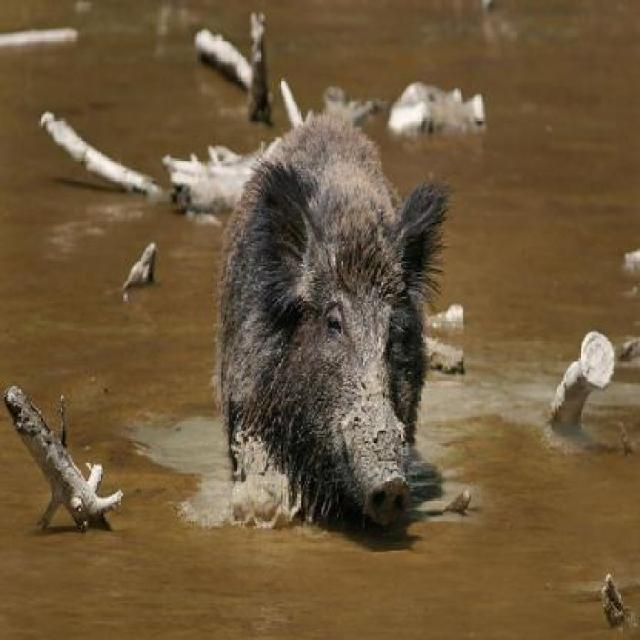wildboar: (213, 106, 453, 554)
